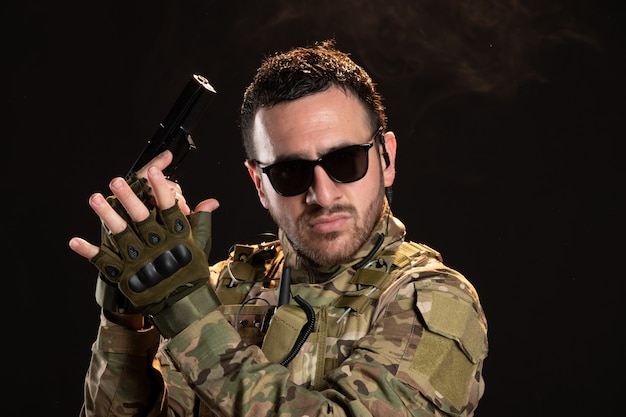gun: (110, 71, 218, 198)
